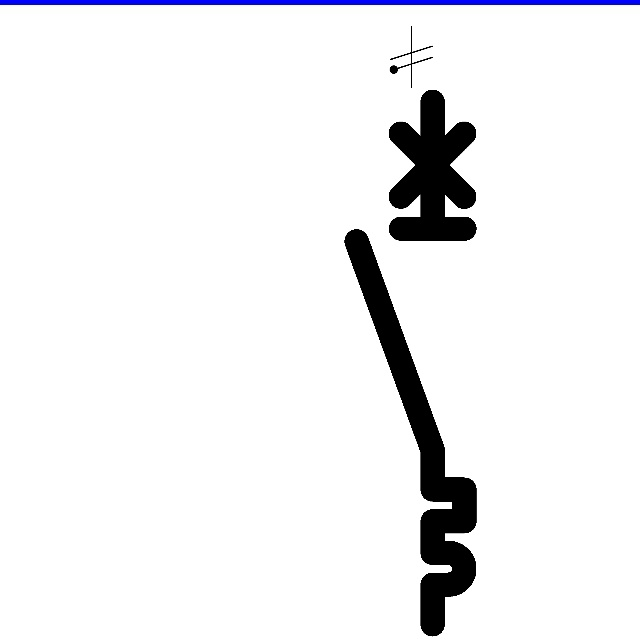interruptor_termomagnetico: (343, 88, 478, 638)
